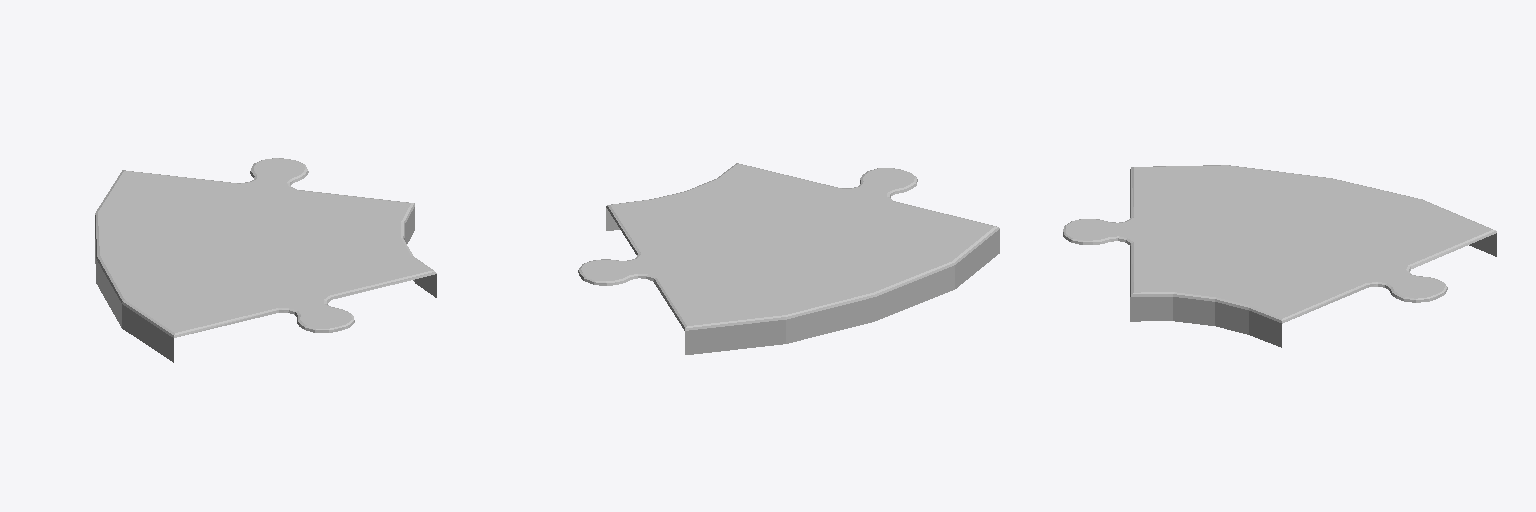
Rendered from Top Turn LTR Knobs.obj.
3 views of the same model, side by side, from view 1: azimuth 30°, elevation 25°; view 2: azimuth 150°, elevation 25°; view 3: azimuth 270°, elevation 25° (orthographic).
Visible parts, largest first — view 1: PuzzleTopTurnLTRKnobs; view 2: PuzzleTopTurnLTRKnobs; view 3: PuzzleTopTurnLTRKnobs.
Boxes of the visible parts, box(x1,y1,x2,y2) form: PuzzleTopTurnLTRKnobs: box(95, 158, 436, 362); PuzzleTopTurnLTRKnobs: box(578, 163, 999, 354); PuzzleTopTurnLTRKnobs: box(1063, 165, 1496, 347).
Bounding box in the file's own units: 721 × 59.05 × 845.